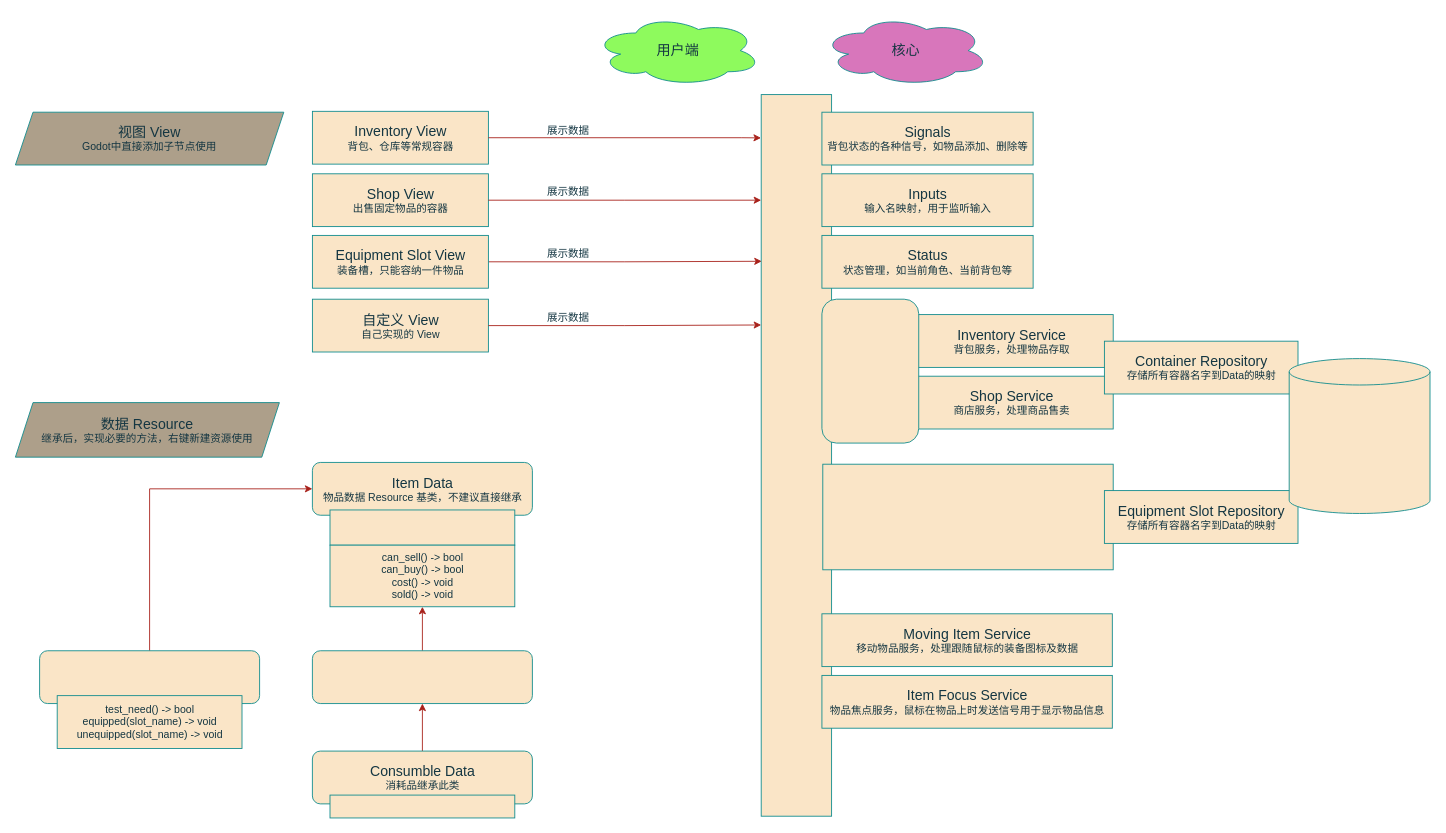
The diagram is 1446 pixels wide and 833 high, and some of its shapes have lost their labels. The box of each missing label's shape, as (x1, y1, x2, y2) in pixels:
Base Container Service 容器业务基类: (821, 298, 919, 443)
can_drop() -> bool drop() -> void: (329, 509, 515, 545)
consume() -> int: (329, 794, 515, 818)
Equipment Data 装备数据继承此类: (39, 650, 260, 704)
Equipment Slot Service 装备槽服务，处理装备穿脱: (822, 463, 1113, 570)
GBIS: (760, 94, 832, 816)
Stackable Data 可堆叠物品继承此类: (312, 650, 532, 704)
存档文件 container_保存名.tres equipment_slot_保存名.tres: (1288, 358, 1430, 513)
